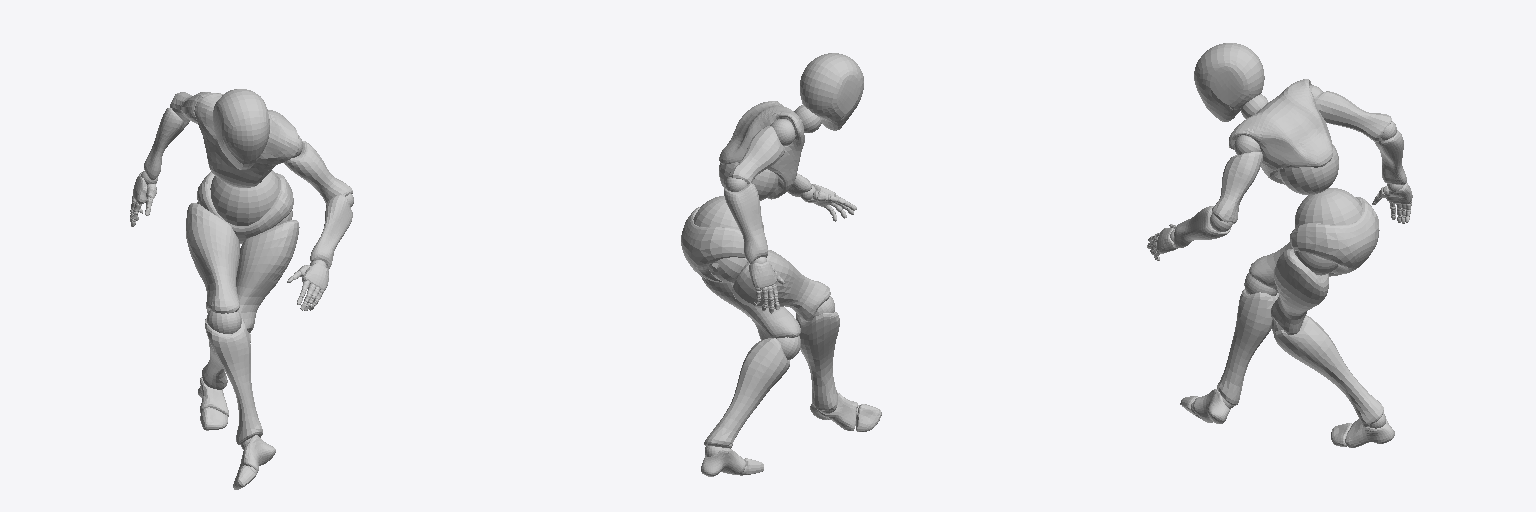
The picture shows the model from 3 angles: view 1: azimuth 30°, elevation 25°; view 2: azimuth 150°, elevation 25°; view 3: azimuth 270°, elevation 25°; orthographic projection.
Visible parts, largest first — view 1: Beta_Surface, Beta_Joints; view 2: Beta_Surface, Beta_Joints; view 3: Beta_Surface, Beta_Joints.
Part boxes in pixels (bbox=[...]): Beta_Surface: bbox=[130, 89, 352, 489]; Beta_Joints: bbox=[130, 100, 353, 476]; Beta_Surface: bbox=[681, 53, 881, 476]; Beta_Joints: bbox=[693, 105, 859, 475]; Beta_Surface: bbox=[1147, 43, 1412, 447]; Beta_Joints: bbox=[1148, 85, 1411, 428].
Bounding box in the file's own units: 0.5427 × 1.46 × 0.9172.